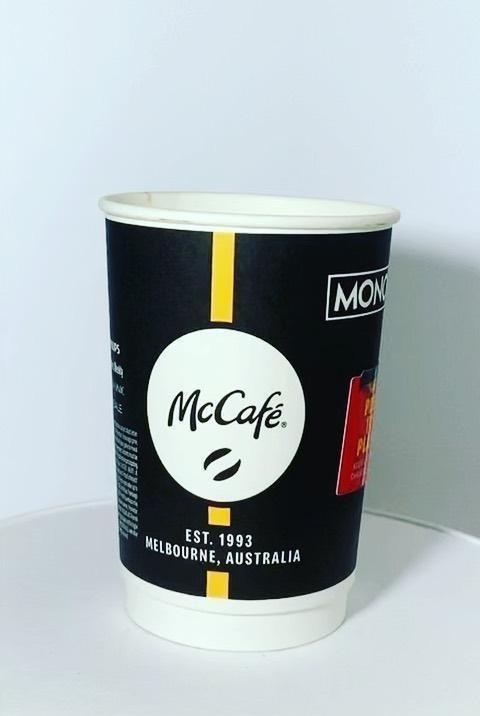cup-disposable: (81, 179, 409, 663)
